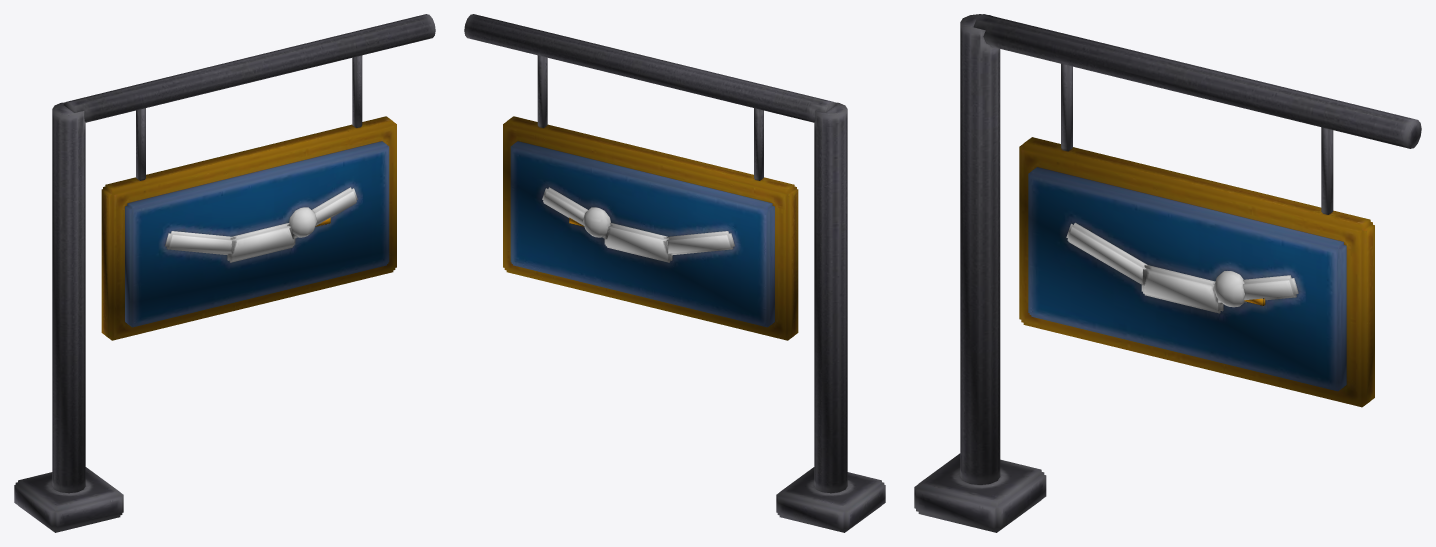
Rendered from TavernSign.glb.
The picture shows the model from 3 angles, left to right: view 1: azimuth 30°, elevation 25°; view 2: azimuth 150°, elevation 25°; view 3: azimuth 330°, elevation 25°; orthographic projection. The views are drawn at different scales.
Visible parts, largest first — view 1: TavernSign; view 2: TavernSign; view 3: TavernSign.
Boxes of the visible parts, x1,y1,x2,y2 form: TavernSign: [14, 14, 435, 532]; TavernSign: [464, 14, 885, 532]; TavernSign: [914, 14, 1421, 532].
Bounding box in the file's own units: 1.65 × 1.63 × 0.3.
Materials: 1 (1 with a texture image).
